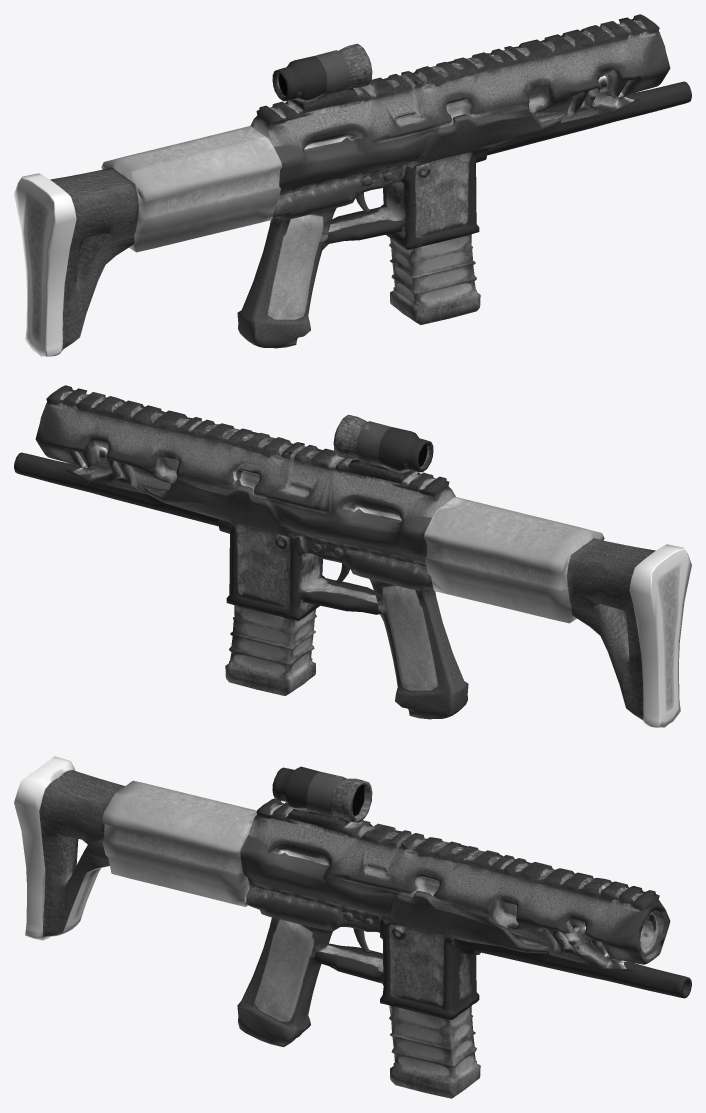
The model's file is rifle.fbx.
The picture shows the model from 3 angles, top to bottom: view 1: azimuth 30°, elevation 25°; view 2: azimuth 150°, elevation 25°; view 3: azimuth 330°, elevation 25°; orthographic projection.
Visible parts, largest first — view 1: PolyGroup1; view 2: PolyGroup1; view 3: PolyGroup1.
Part boxes in pixels (box(x1,y1,x2,y2)): PolyGroup1: box(14, 14, 691, 356); PolyGroup1: box(14, 385, 691, 727); PolyGroup1: box(14, 756, 691, 1098).
Size of the model in its own units: 277 by 114 by 34.55.
